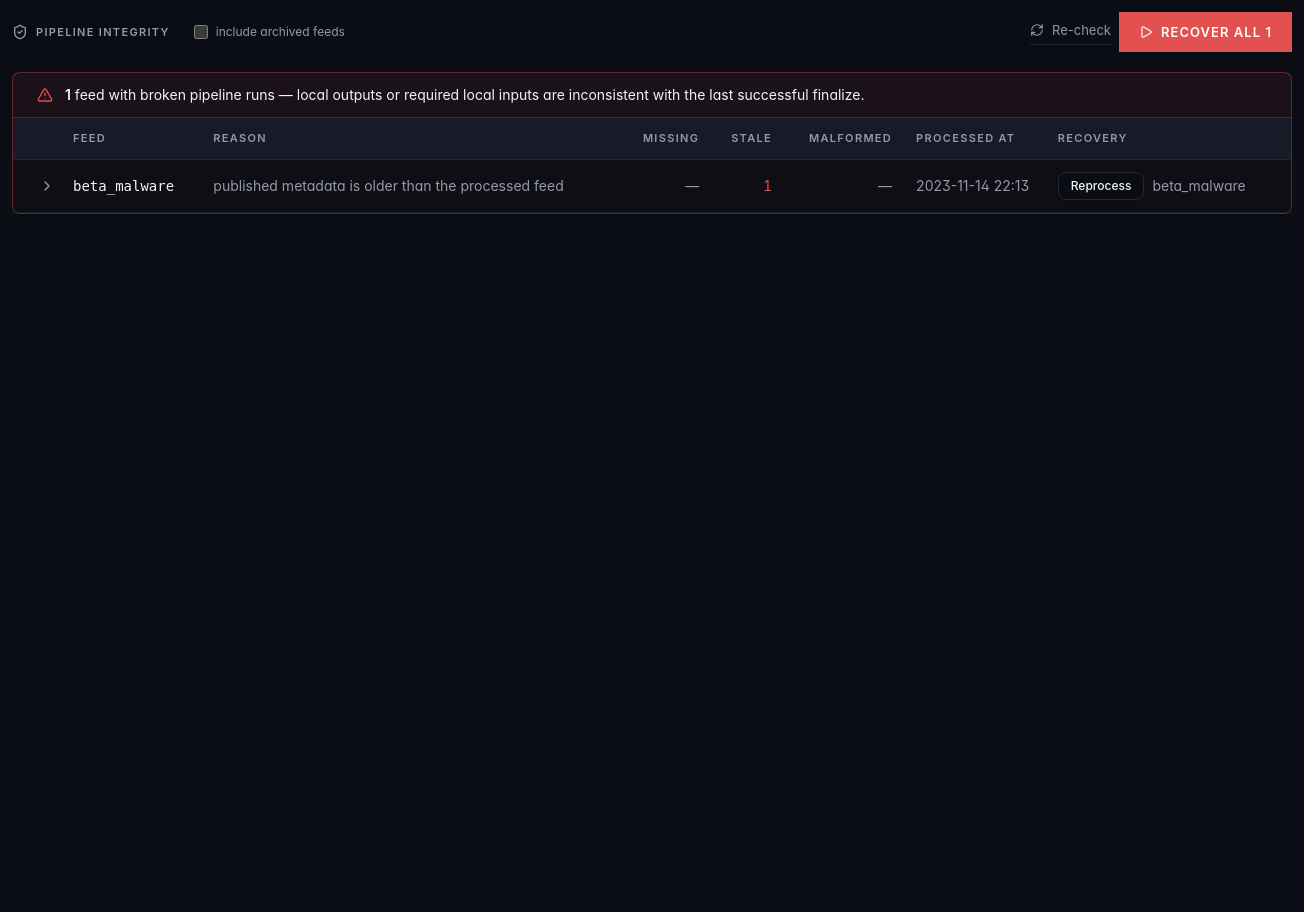
Test case: recovers feed integrity findings through the admin API
Check: the text "published metadata is older than the processed feed" is shown, box [201,160,621,213]
Step 1. Click the button "Recover all 1" → (1206, 32), box [1119,12,1292,52]
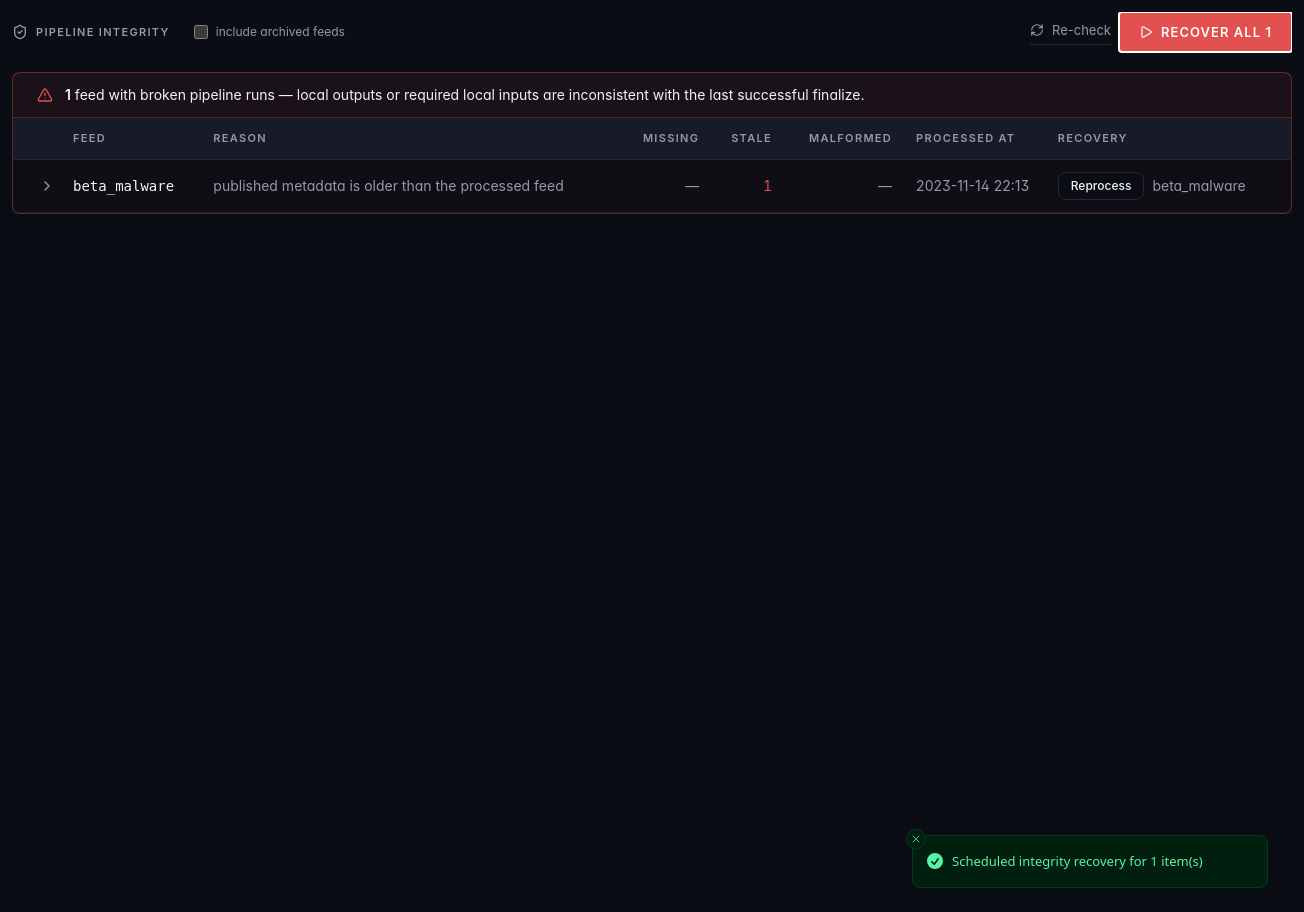
Check: the text "Scheduled integrity recovery for 1 item(s)" is shown, box [952,852,1203,871]
